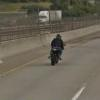Motorcycle: (40, 31, 70, 71)
